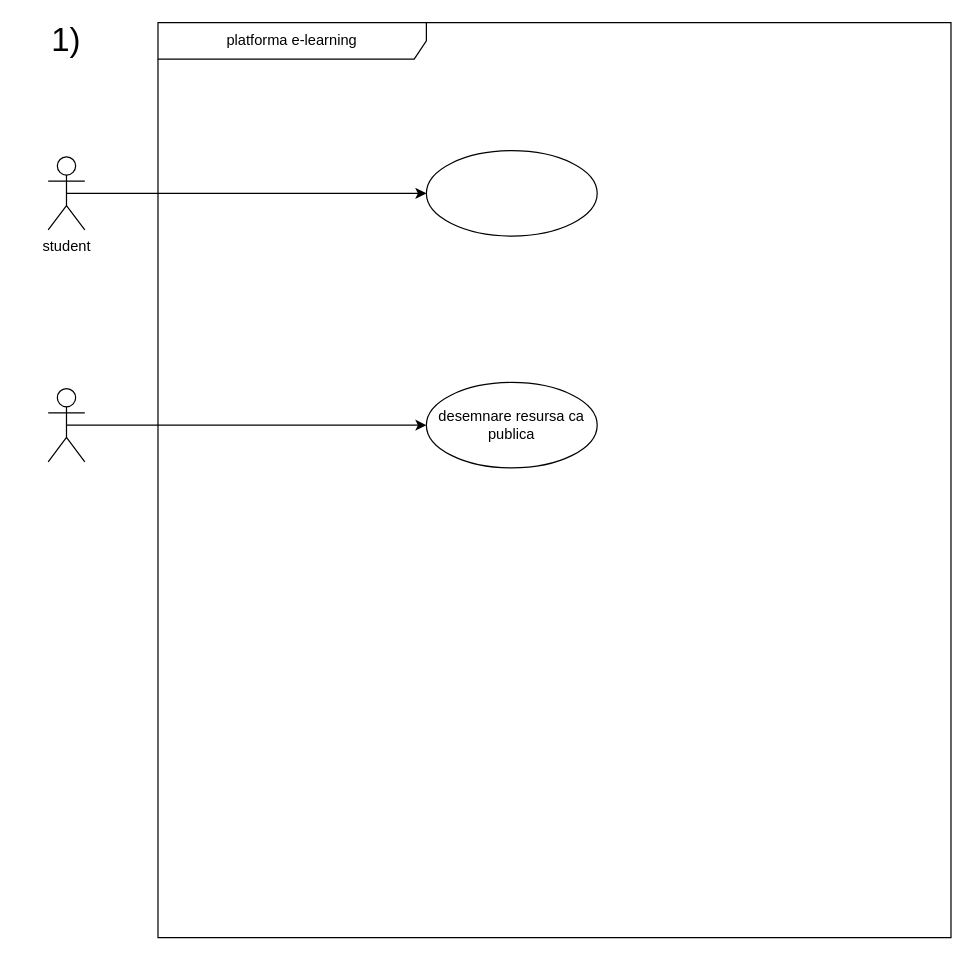
Some shapes in this 972 by 959 pixel diagram are drawn without their labels. The shapes that lost their labels are listed below. From the top down, each one's box as (x1, y1, x2, y2) in pixels, then its label:
(425, 149, 597, 236): urmarire progres vizual
(47, 387, 85, 462): cadru didactic
